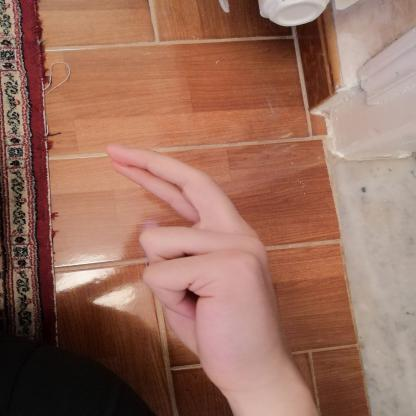ZAY: (93, 132, 305, 398)
